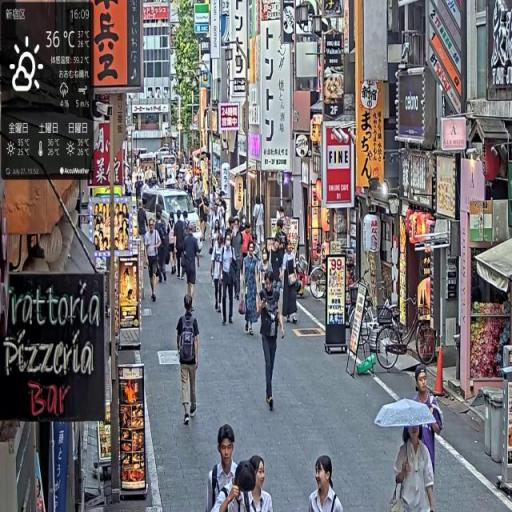person: (257, 269, 288, 415), (414, 367, 445, 506), (391, 423, 437, 512), (176, 293, 202, 426), (209, 426, 244, 512), (309, 454, 345, 512), (242, 240, 263, 339), (281, 239, 303, 330), (220, 228, 239, 325), (182, 223, 202, 312), (146, 217, 163, 304), (211, 226, 227, 315), (155, 209, 170, 288)
